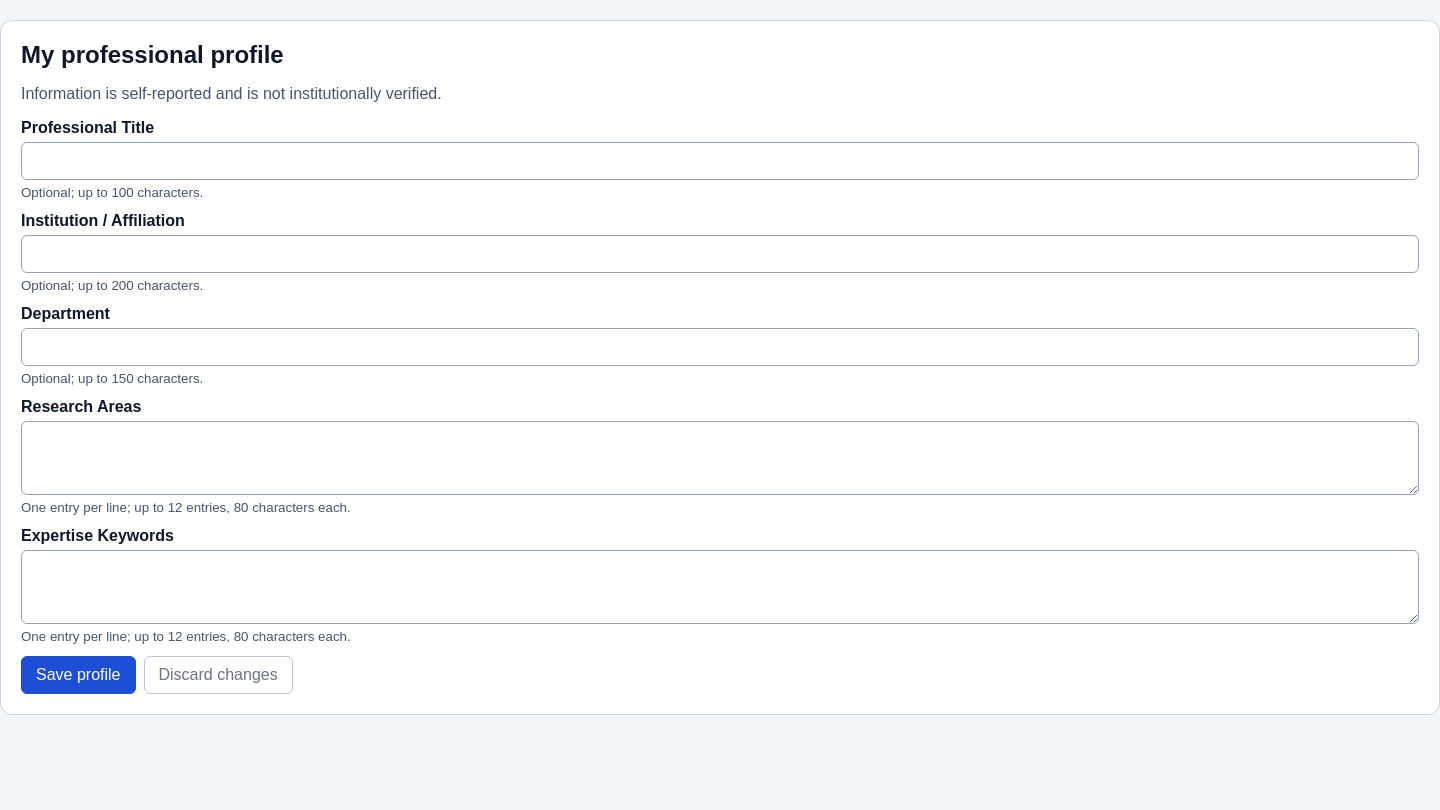
Test: reports a confirmed server validation rejection without success
Step 1. Type "Researcher" into the field labelled "Professional Title Optional; up to 100 characters." → (720, 161), box [21,142,1419,180]
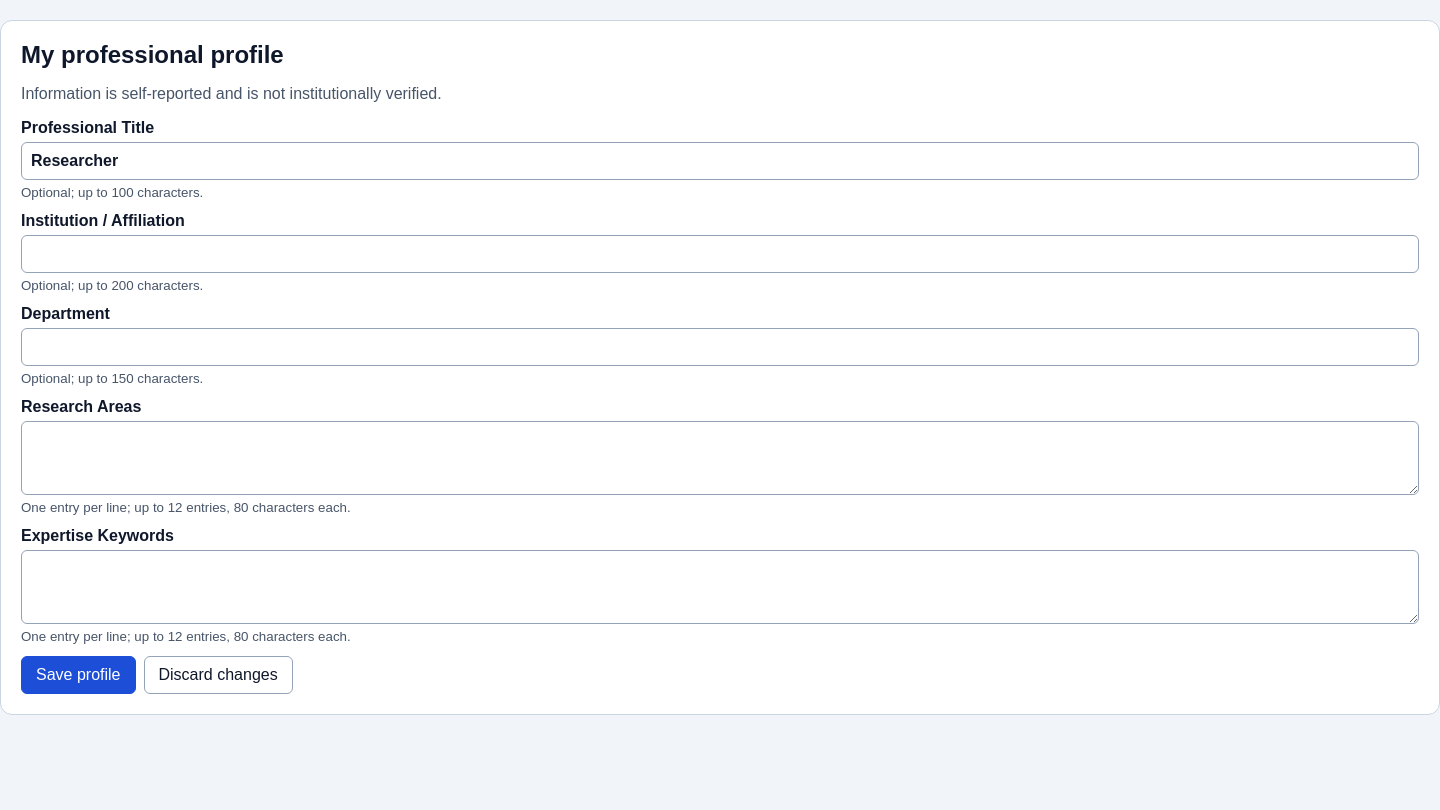
Step 2. Click the button "Save profile" → (78, 675), box [21,656,136,694]
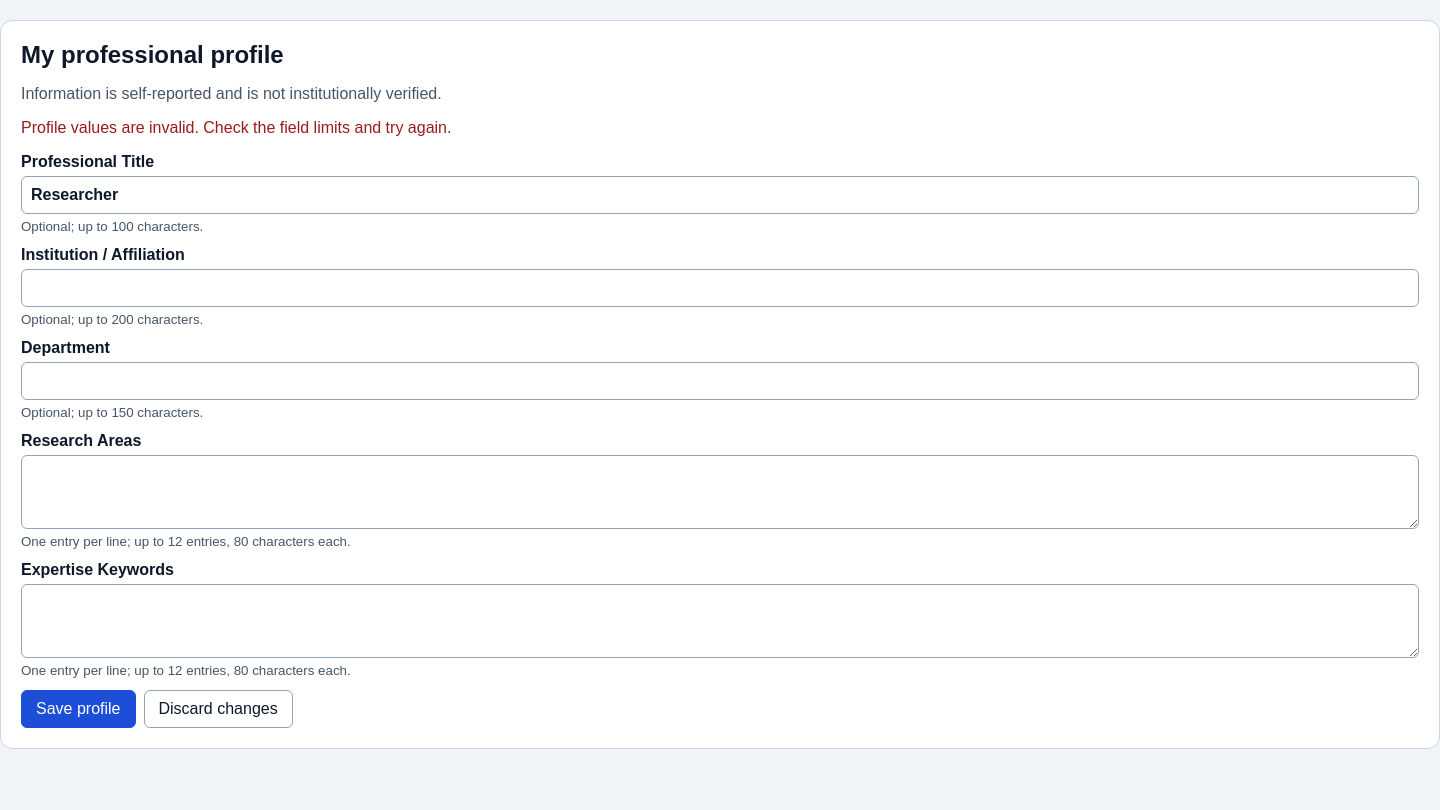
Expected: the message shows "invalid", [21,119,451,136]
